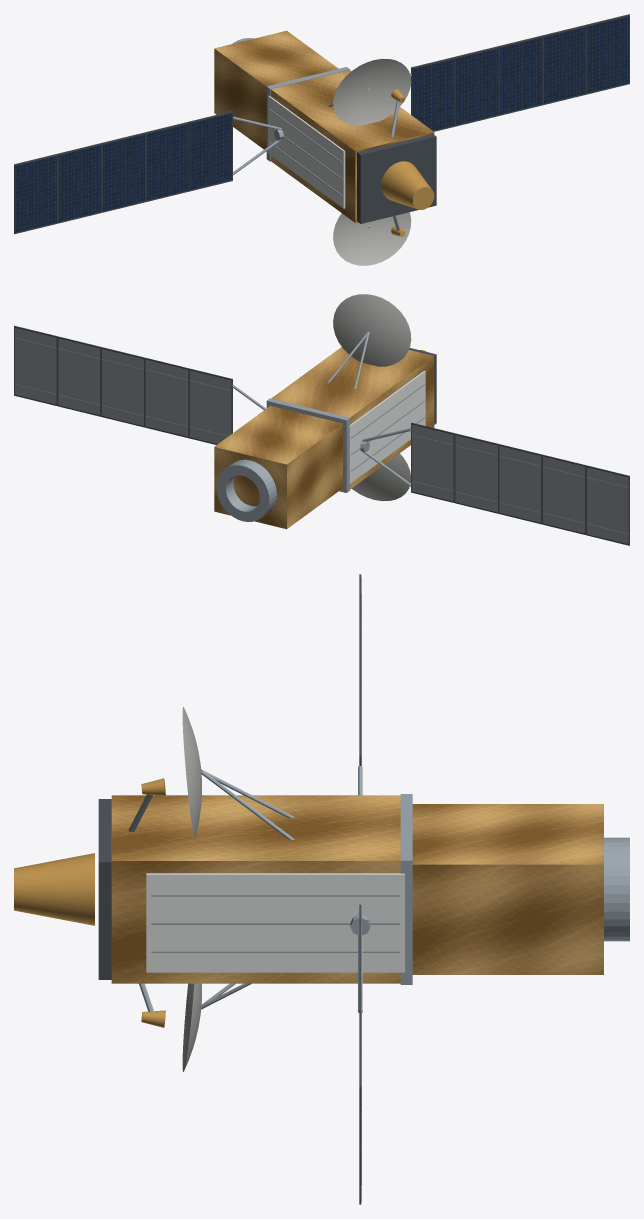
File: ref-fs-intelsat-5-12089.glb
3 renders of one model, top to bottom at view 1: azimuth 30°, elevation 25°; view 2: azimuth 150°, elevation 25°; view 3: azimuth 270°, elevation 25°, orthographic. The views are drawn at different scales.
Visible parts, largest first — view 1: Solar cell panel (×10), Service module, Communications reflector (×2), Payload module, Radiator face, Earth-facing deck, Solar panel frame (×7), Axial antenna horn, Module interface; view 2: Rear array substrate (×10), Service module, Payload module, Communications reflector (×2), Radiator face, Solar panel frame (×7), Launch adapter ring, Module interface; view 3: Service module, Payload module, Radiator face, Axial antenna horn, Launch adapter ring, Communications reflector (×2), Earth-facing deck, Module interface.
Part boxes in pixels (x1,y1,x2,y2): Solar cell panel (×10): (15, 16, 629, 232); Service module: (214, 30, 338, 149); Communications reflector (×2): (333, 58, 411, 265); Payload module: (270, 70, 434, 222); Radiator face: (268, 95, 345, 208); Earth-facing deck: (357, 134, 436, 223); Solar panel frame (×7): (14, 14, 629, 234); Axial antenna horn: (381, 161, 434, 209); Module interface: (266, 67, 350, 161); Rear array substrate (×10): (14, 328, 628, 544); Service module: (214, 406, 342, 529); Payload module: (271, 347, 434, 488); Communications reflector (×2): (333, 294, 411, 501); Radiator face: (349, 370, 425, 483); Solar panel frame (×7): (14, 325, 629, 545); Launch adapter ring: (216, 459, 276, 521); Module interface: (266, 398, 350, 492); Service module: (412, 804, 603, 974); Payload module: (111, 795, 400, 983); Radiator face: (146, 873, 404, 972); Axial antenna horn: (14, 853, 94, 925); Launch adapter ring: (604, 837, 629, 941); Communications reflector (×2): (182, 707, 201, 1071); Earth-facing deck: (98, 799, 111, 979); Module interface: (400, 794, 412, 984).
Bounding box in the file's own units: 15.59 × 4.95 × 7.92.
Materials: 8 (2 with a texture image).
